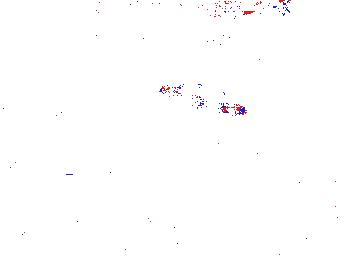glassfish: (204, 138, 313, 199)
red belly glassfish: (192, 92, 247, 118), (155, 75, 208, 99)
redtail glassfish: (207, 1, 294, 20)
